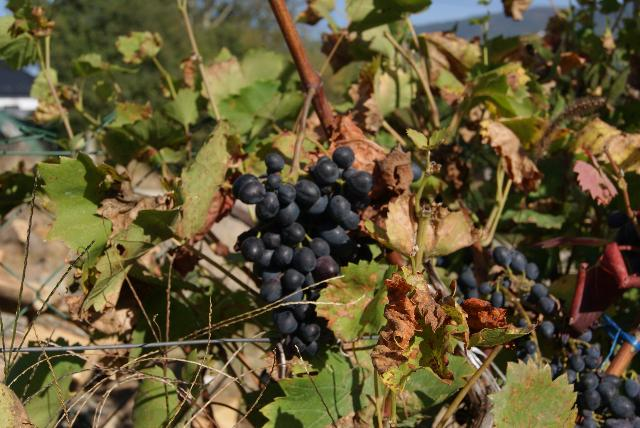grapes: (232, 149, 360, 354)
